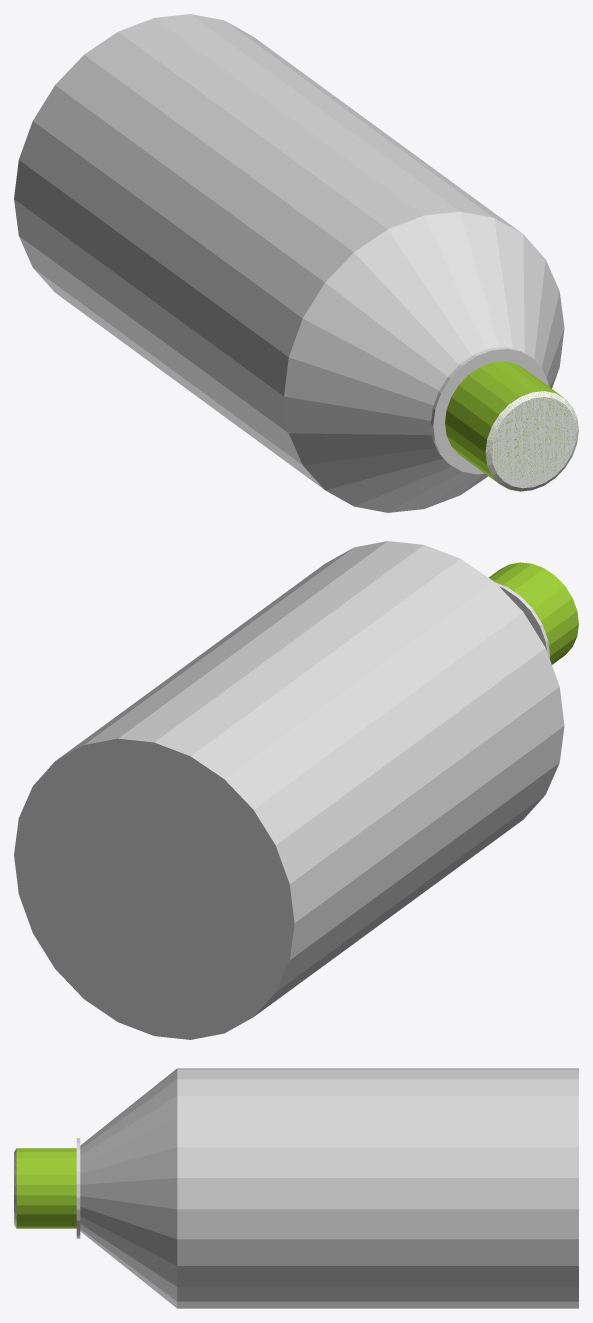
The picture shows the model from 3 angles, top to bottom: view 1: azimuth 30°, elevation 25°; view 2: azimuth 150°, elevation 25°; view 3: azimuth 270°, elevation 25°; orthographic projection. The views are drawn at different scales.
Visible parts, largest first — view 1: bottle; view 2: bottle; view 3: bottle.
Boxes of the visible parts, bbox=[...] form: bottle: bbox=[14, 14, 578, 512]; bottle: bbox=[14, 541, 578, 1039]; bottle: bbox=[14, 1068, 578, 1308].
Size of the model in its own units: 4.72 by 4.72 by 11.07.
